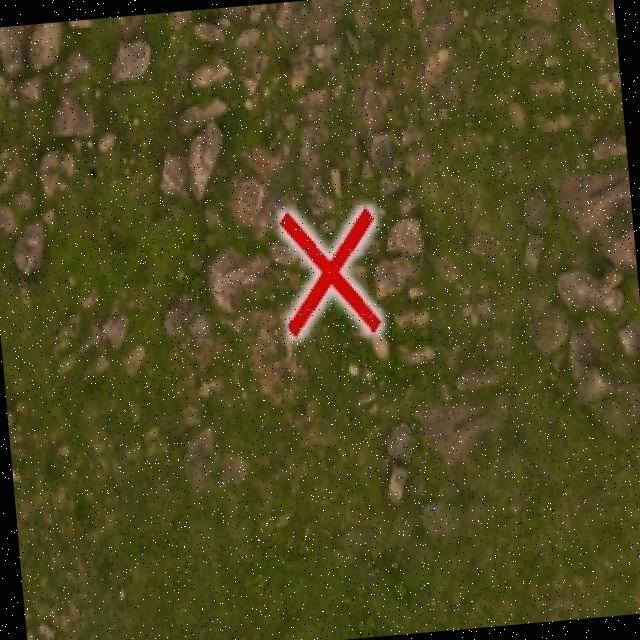x_marker: (278, 205, 382, 338)
